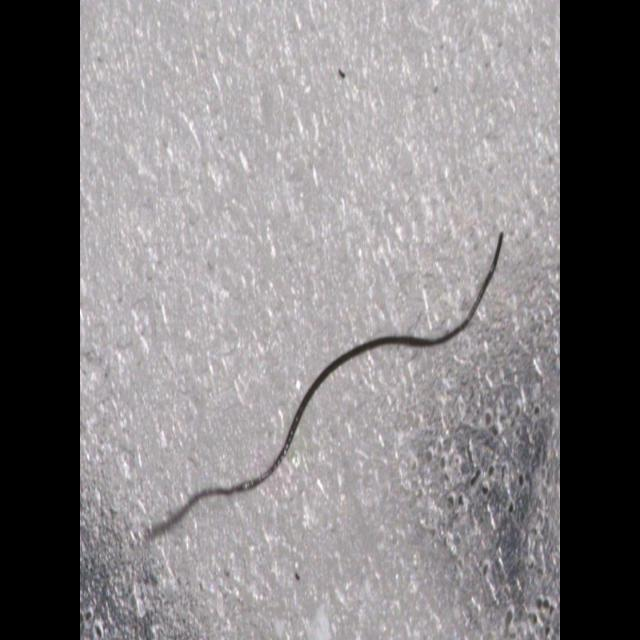Fibre: (142, 228, 504, 544)
